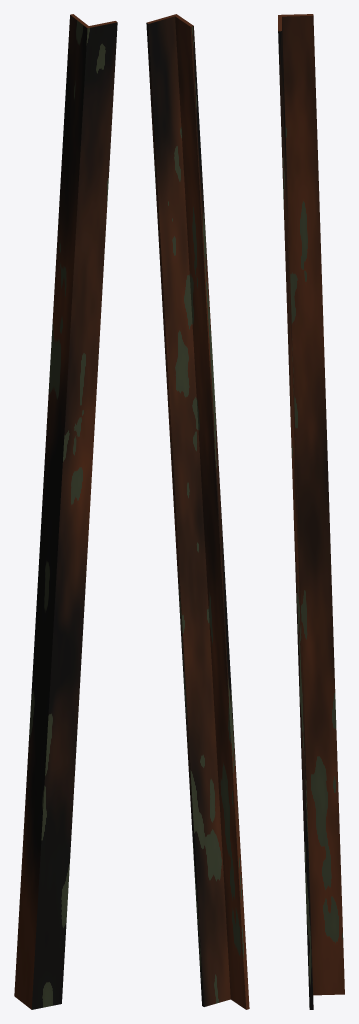
Rendered from S7U_WirePicket.fbx.
3 views of the same model, side by side, from view 1: azimuth 30°, elevation 25°; view 2: azimuth 210°, elevation 25°; view 3: azimuth 270°, elevation 25° (orthographic).
Parts seen in each view (by area): view 1: S7U_WirePicket; view 2: S7U_WirePicket; view 3: S7U_WirePicket.
Boxes of the visible parts, x1,y1,x2,y2 form: S7U_WirePicket: (14, 14, 117, 1009); S7U_WirePicket: (146, 14, 249, 1009); S7U_WirePicket: (278, 14, 344, 1009).
Bounding box in the file's own units: 0.105 × 1.4 × 0.085.
